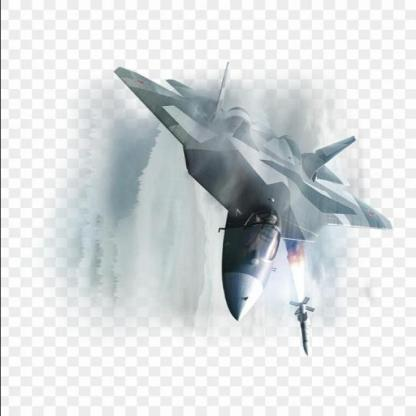MIL_TBM: (297, 302, 311, 356)
